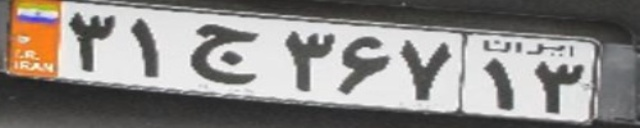1: (129, 15, 160, 77), (479, 57, 514, 110)
3: (284, 29, 334, 91), (68, 12, 114, 73), (533, 60, 584, 113)
6: (340, 35, 390, 94)
7: (399, 38, 451, 101)
jim: (190, 23, 257, 84)
